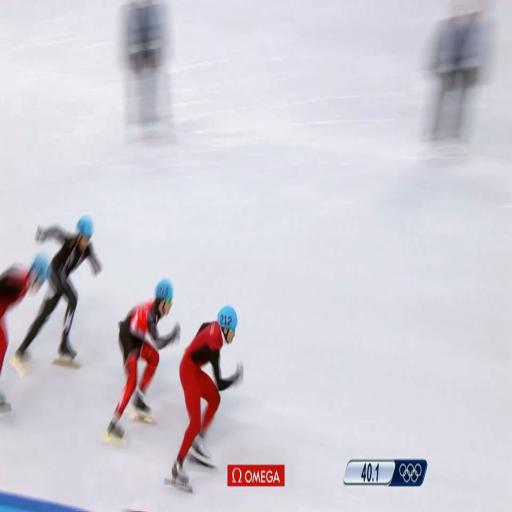Skater: (10, 215, 101, 376), (165, 306, 243, 492), (103, 279, 180, 445), (0, 253, 48, 373)
